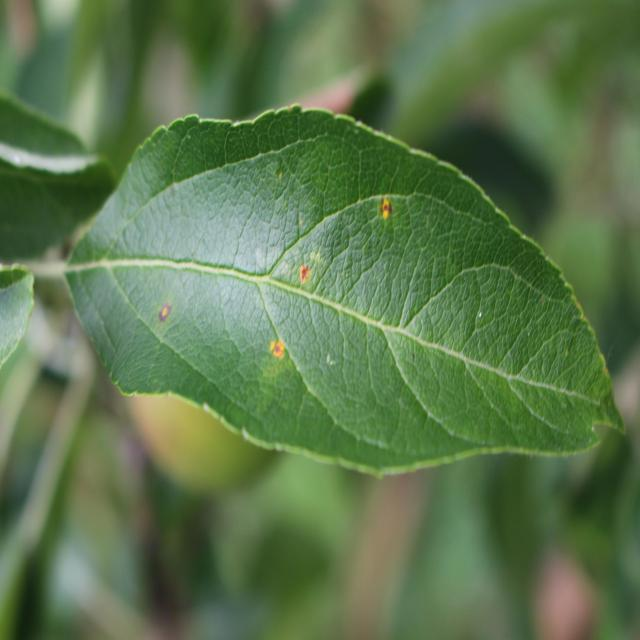rust: (64, 104, 626, 477)
